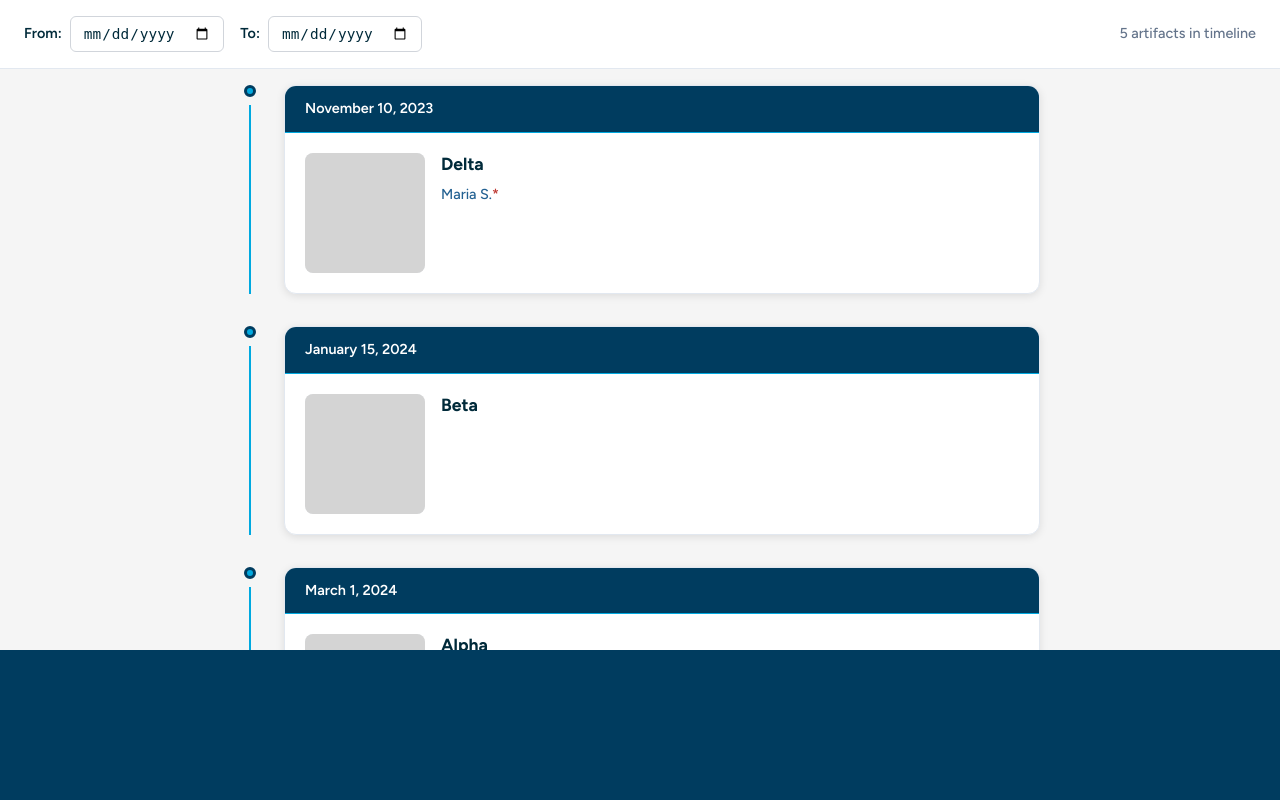
Test: TimelineView — date filtering › excludes artifacts after the end date
Type "2024-01-31" into the date field labelled "To:". click: (345, 34)
box: [268,16,422,52]
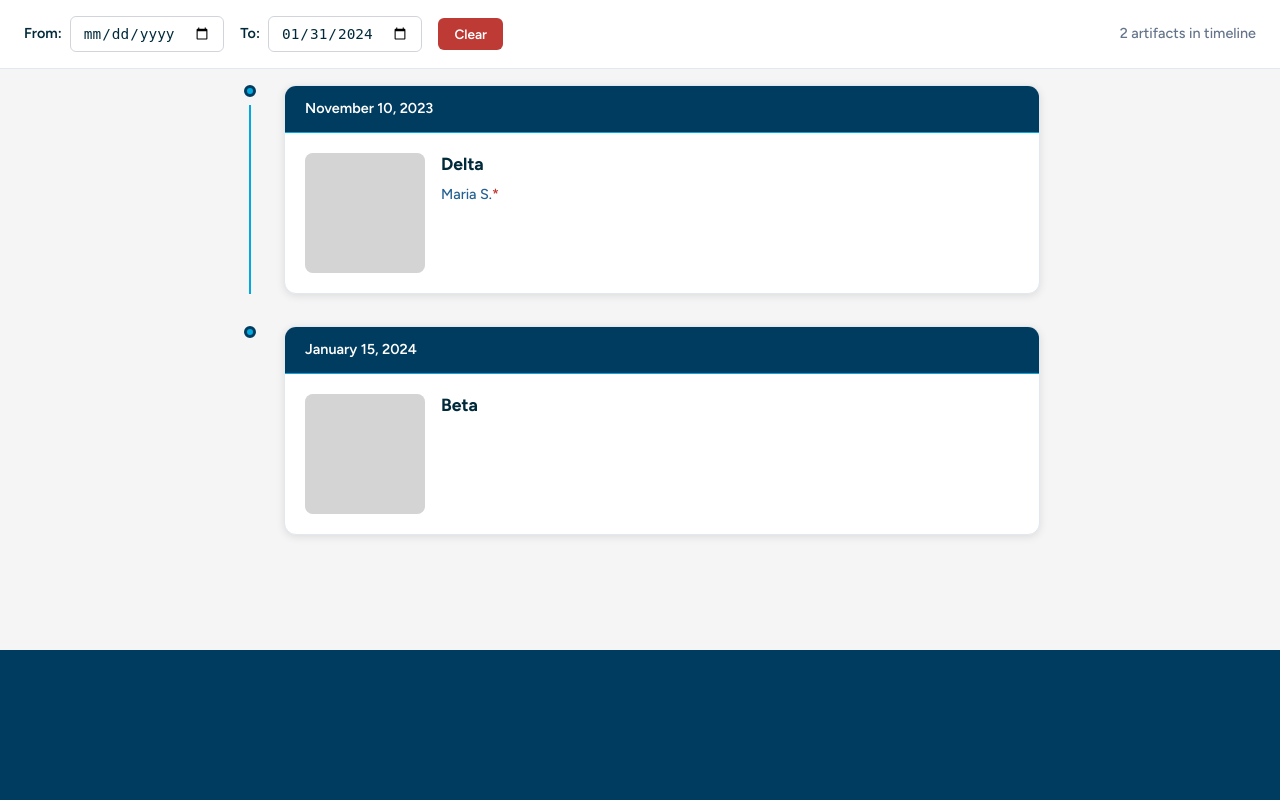
expect the heading "Beta" is shown: met, box [441,394,478,415]
expect the heading "Alpha" is gone: met
